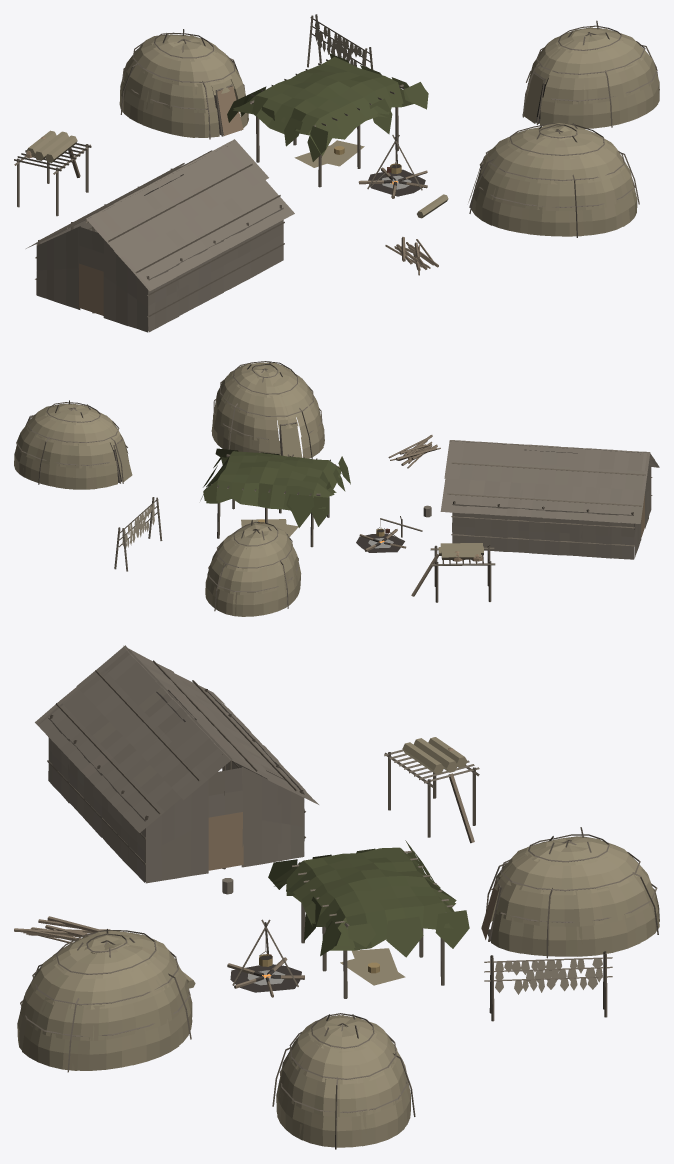
File: potawatomi_camp_1812_upper__camp_1812.glb
The picture shows the model from 3 angles, top to bottom: view 1: azimuth 30°, elevation 25°; view 2: azimuth 150°, elevation 25°; view 3: azimuth 270°, elevation 25°; orthographic projection. The views are drawn at different scales.
Visible parts, largest first — view 1: potawatomi_camp_1812_upper__camp_1812; view 2: potawatomi_camp_1812_upper__camp_1812; view 3: potawatomi_camp_1812_upper__camp_1812.
Part boxes in pixels (left/top/right/bottom): potawatomi_camp_1812_upper__camp_1812: left=14, top=14, right=659, bottom=332; potawatomi_camp_1812_upper__camp_1812: left=14, top=361, right=659, bottom=616; potawatomi_camp_1812_upper__camp_1812: left=14, top=645, right=659, bottom=1149.
Bounding box in the file's own units: 25.18 × 3.45 × 17.08.
